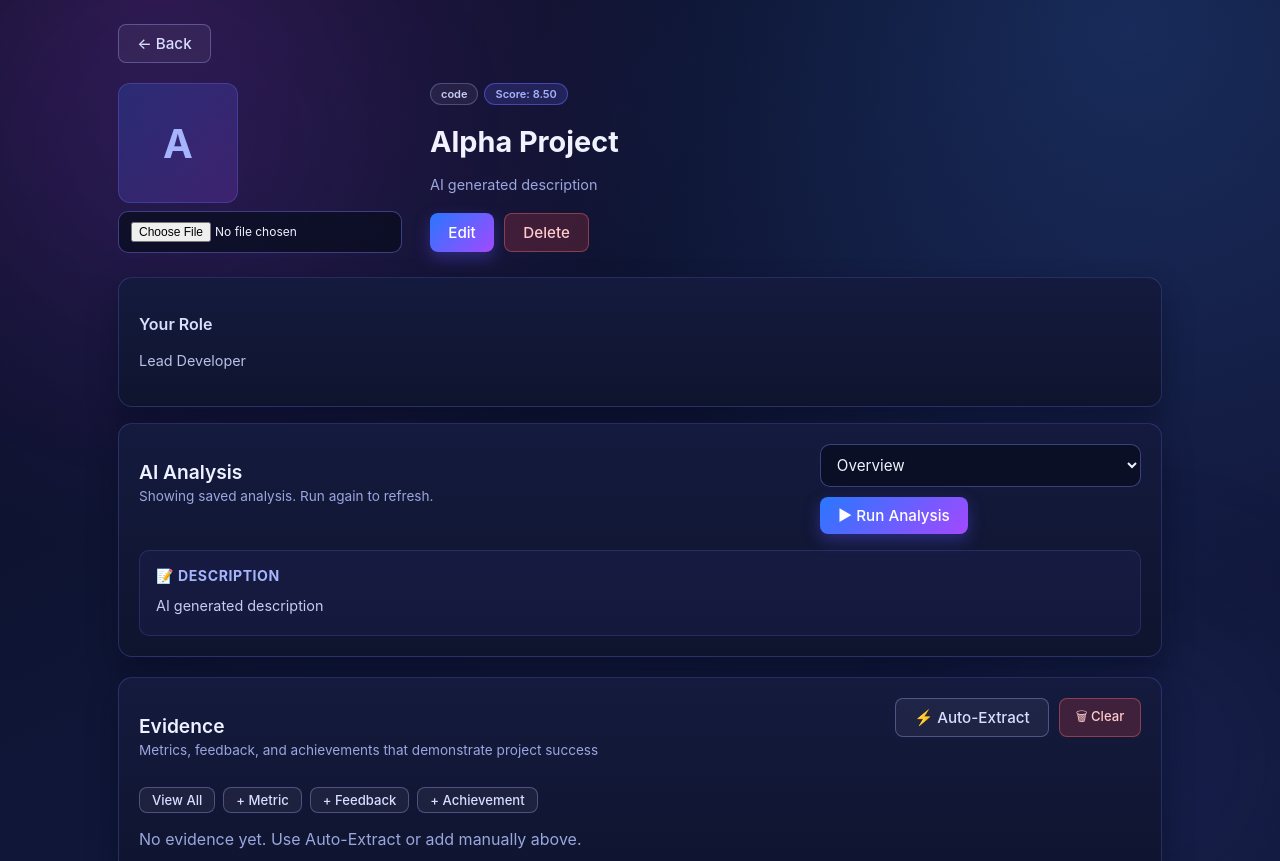
ProjectPage - editing › shows edit form when Edit is clicked
What coordinates should you click on to do the following:
click the button "Edit"
I would click on:
 (462, 233)
Its box is [430,213,494,252].
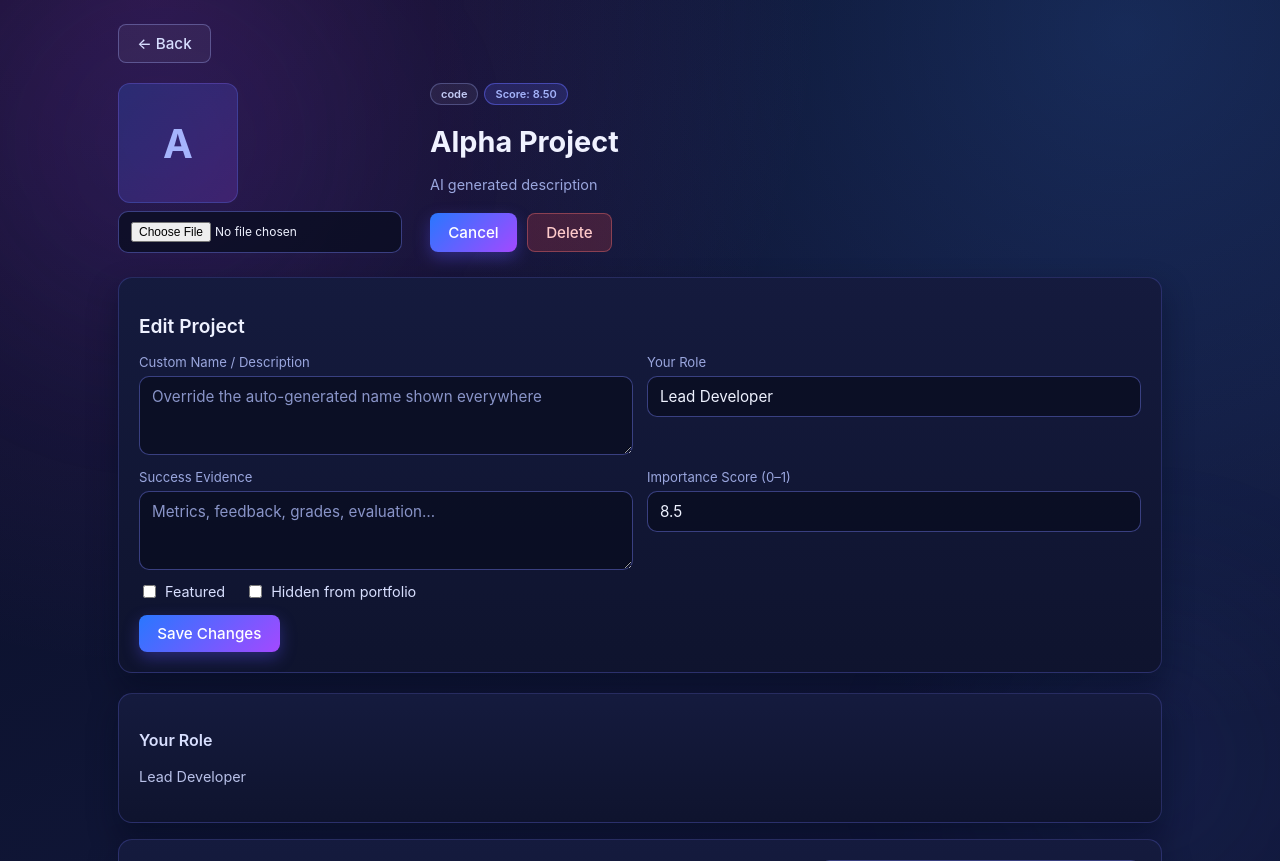
Expected: the button "Save Changes" is shown, [139,615,280,652]
